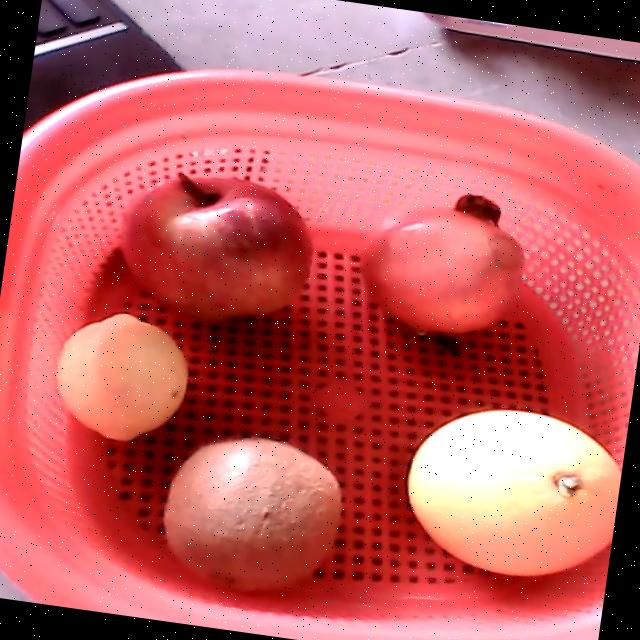apple: (120, 170, 314, 323)
kiwi: (163, 437, 344, 593)
lemon: (58, 312, 189, 441)
orange: (406, 408, 621, 576)
pomegranate: (359, 192, 526, 334)
